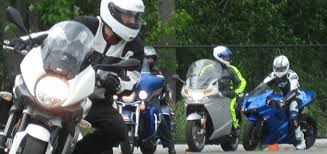helmet: (264, 54, 297, 81), (211, 43, 234, 67)
